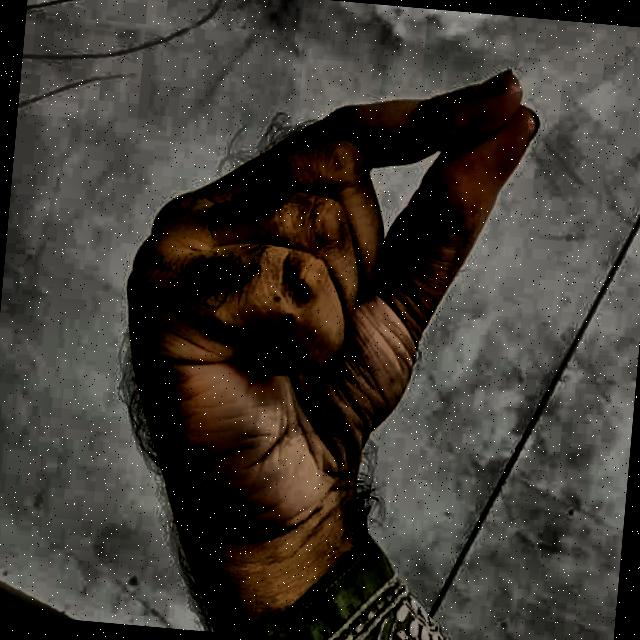Anusshar: (78, 9, 560, 602)
